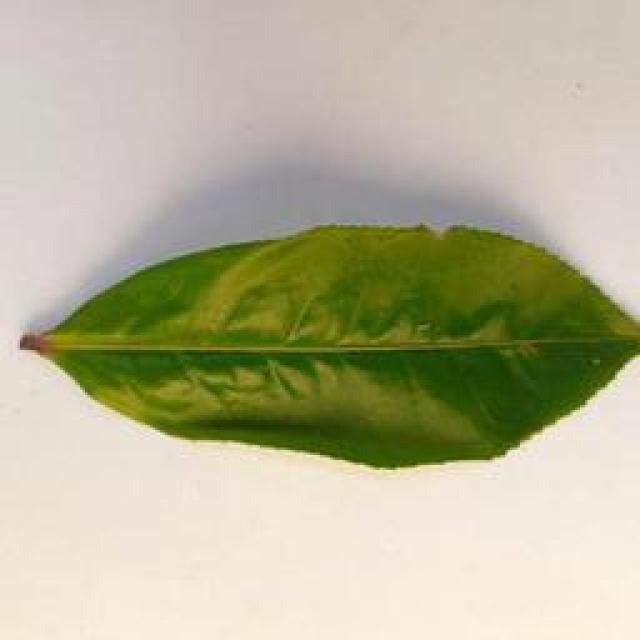Healthy: (10, 210, 640, 472)
